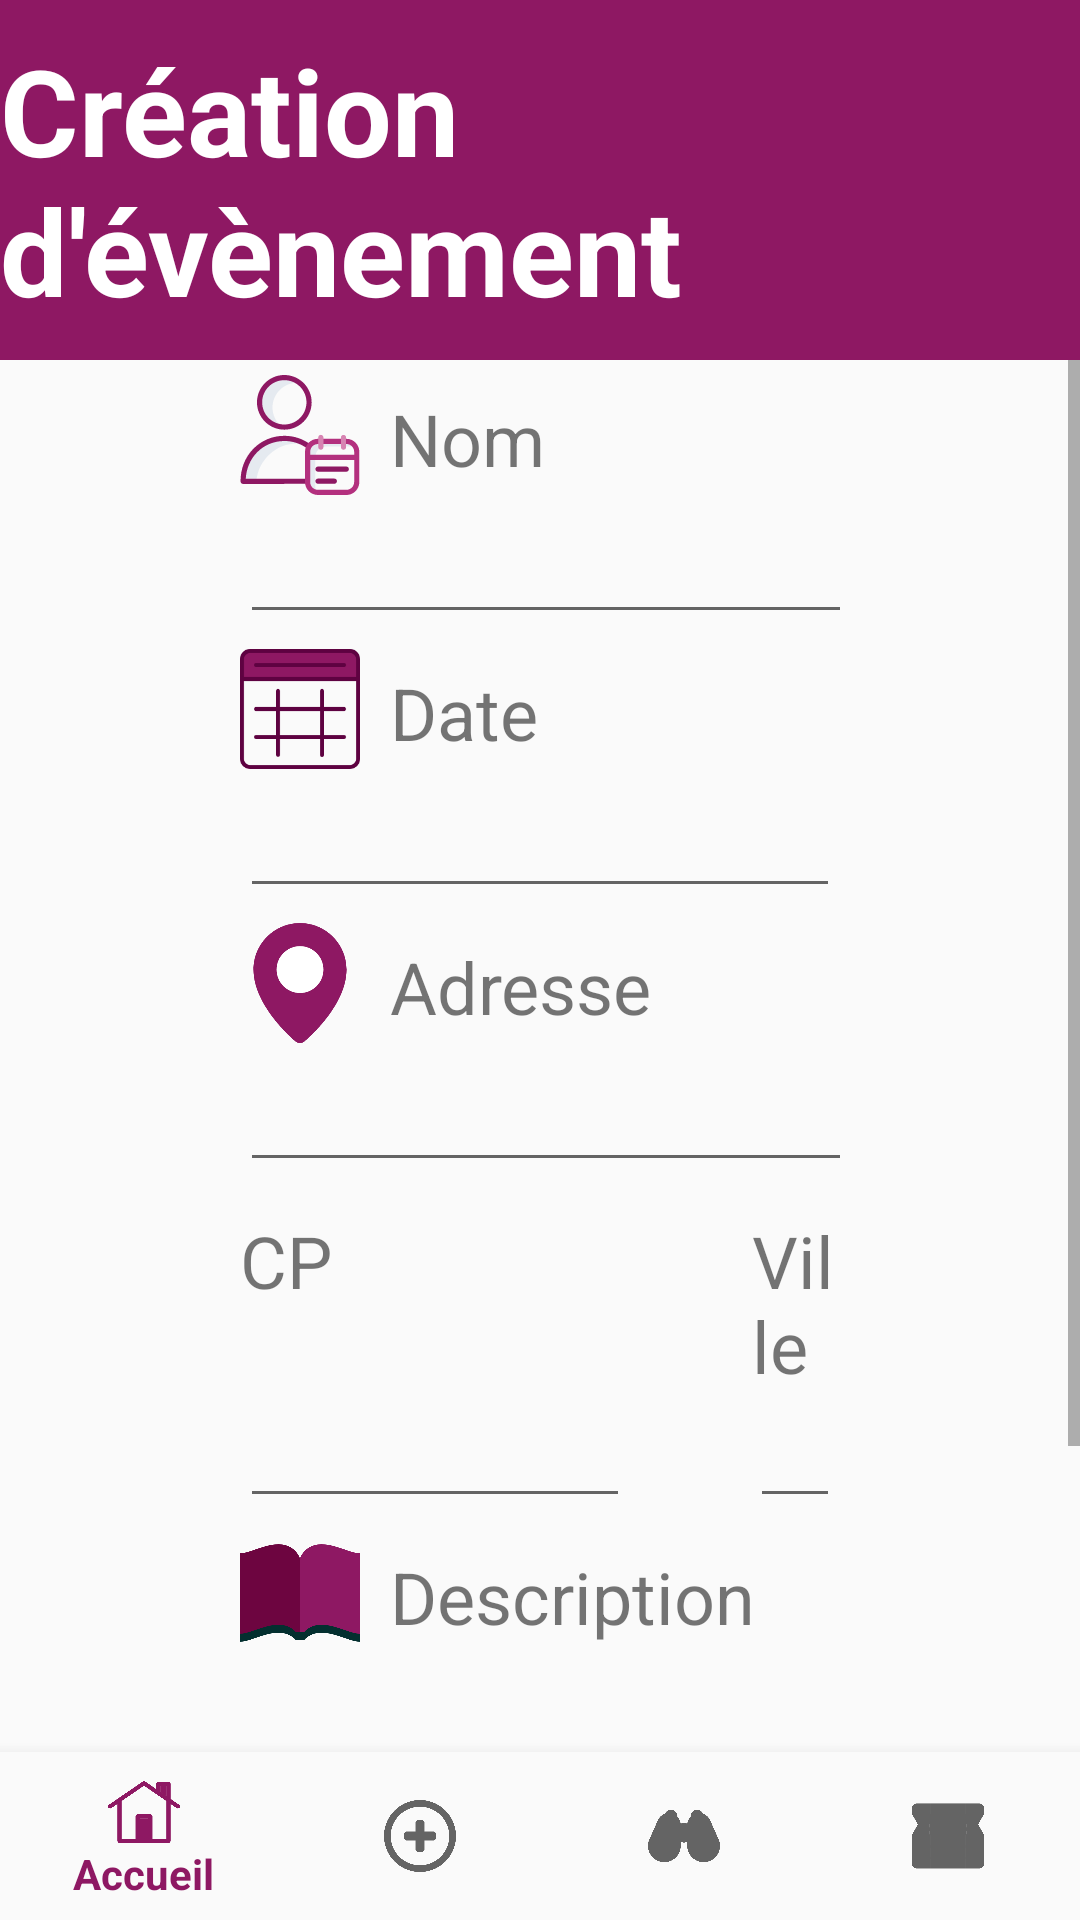

Point at icon controls on the screen. Image size 1080px x 1920px, points as (x,y).
book: (300,1593)
event: (300,709)
user: (300,435)
